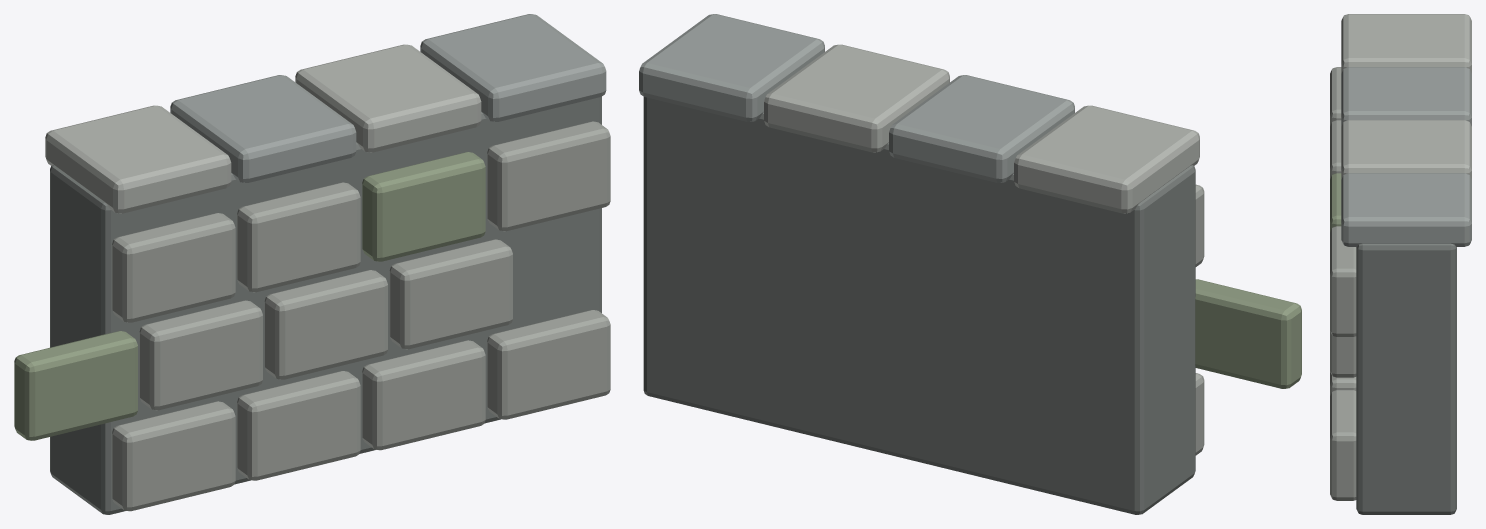
The model's file is retaining_wall_2x1p2.glb.
3 views of the same model, side by side, from view 1: azimuth 30°, elevation 25°; view 2: azimuth 150°, elevation 25°; view 3: azimuth 270°, elevation 25° (orthographic). The views are drawn at different scales.
Parts seen in each view (by area): view 1: retaining_2m_core, retaining_2m_cap_01, retaining_2m_cap_03, retaining_2m_cap_04, retaining_2m_cap_02, retaining_2m_face_02_04, retaining_2m_face_01_01, retaining_2m_face_02_03, retaining_2m_face_02_01, retaining_2m_face_03_02, retaining_2m_face_01_03, retaining_2m_face_01_02 (+5 smaller); view 2: retaining_2m_core, retaining_2m_cap_01, retaining_2m_cap_03, retaining_2m_cap_04, retaining_2m_cap_02, retaining_2m_face_02_04, retaining_2m_face_01_01, retaining_2m_face_03_01; view 3: retaining_2m_core, retaining_2m_cap_04, retaining_2m_cap_03, retaining_2m_cap_01, retaining_2m_cap_02, retaining_2m_face_01_04, retaining_2m_face_03_04, retaining_2m_face_02_03, retaining_2m_face_03_01, retaining_2m_face_03_02, retaining_2m_face_03_03, retaining_2m_face_01_03.
Boxes of the visible parts, x1,y1,x2,y2 form: retaining_2m_core: (50,96,601,514); retaining_2m_cap_01: (45,105,231,213); retaining_2m_cap_03: (295,44,481,152); retaining_2m_cap_04: (420,14,606,121); retaining_2m_cap_02: (170,75,356,182); retaining_2m_face_02_04: (14,331,137,440); retaining_2m_face_01_01: (112,401,235,511); retaining_2m_face_02_03: (389,239,512,349); retaining_2m_face_02_01: (139,300,262,410); retaining_2m_face_03_02: (237,182,360,292); retaining_2m_face_01_03: (362,340,485,450); retaining_2m_face_01_02: (237,371,360,480); retaining_2m_core: (643,97,1195,514); retaining_2m_cap_01: (1014,105,1199,213); retaining_2m_cap_03: (764,44,949,152); retaining_2m_cap_04: (639,14,824,121); retaining_2m_cap_02: (889,75,1074,182); retaining_2m_face_02_04: (1195,279,1301,388); retaining_2m_face_01_01: (1195,373,1204,455); retaining_2m_face_03_01: (1195,184,1204,266); retaining_2m_core: (1356,243,1456,514); retaining_2m_cap_04: (1341,173,1471,246); retaining_2m_cap_03: (1341,120,1471,179); retaining_2m_cap_01: (1341,14,1471,73); retaining_2m_cap_02: (1341,67,1471,126); retaining_2m_face_01_04: (1330,390,1356,500); retaining_2m_face_03_04: (1330,226,1356,336); retaining_2m_face_02_03: (1330,331,1356,377); retaining_2m_face_03_01: (1330,67,1341,125); retaining_2m_face_03_02: (1330,120,1341,178); retaining_2m_face_03_03: (1330,173,1341,231); retaining_2m_face_01_03: (1330,372,1356,395).
Bounding box in the file's own units: 2.36 × 1.3 × 0.565.
